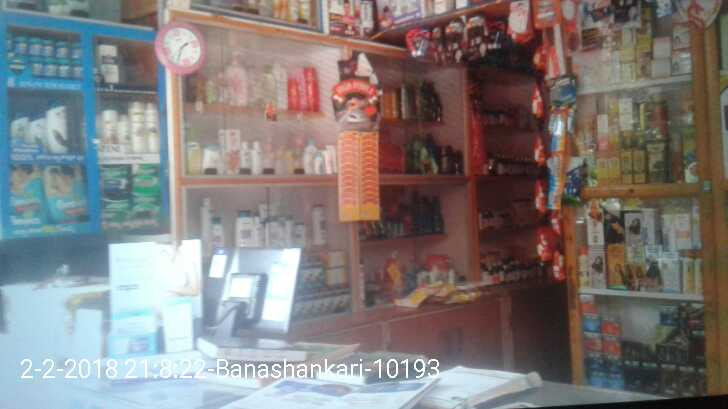beauty: (45, 97, 68, 152), (97, 40, 122, 83), (127, 98, 145, 155), (144, 102, 160, 155), (28, 112, 46, 152), (103, 109, 116, 150)
pharmacy: (3, 164, 43, 227), (42, 166, 87, 220), (129, 164, 163, 195), (131, 194, 161, 228), (98, 164, 129, 194), (101, 197, 127, 225), (52, 42, 71, 60), (13, 34, 28, 56), (26, 37, 40, 60), (40, 37, 55, 58), (32, 59, 44, 80), (45, 58, 58, 76), (61, 60, 72, 81)
